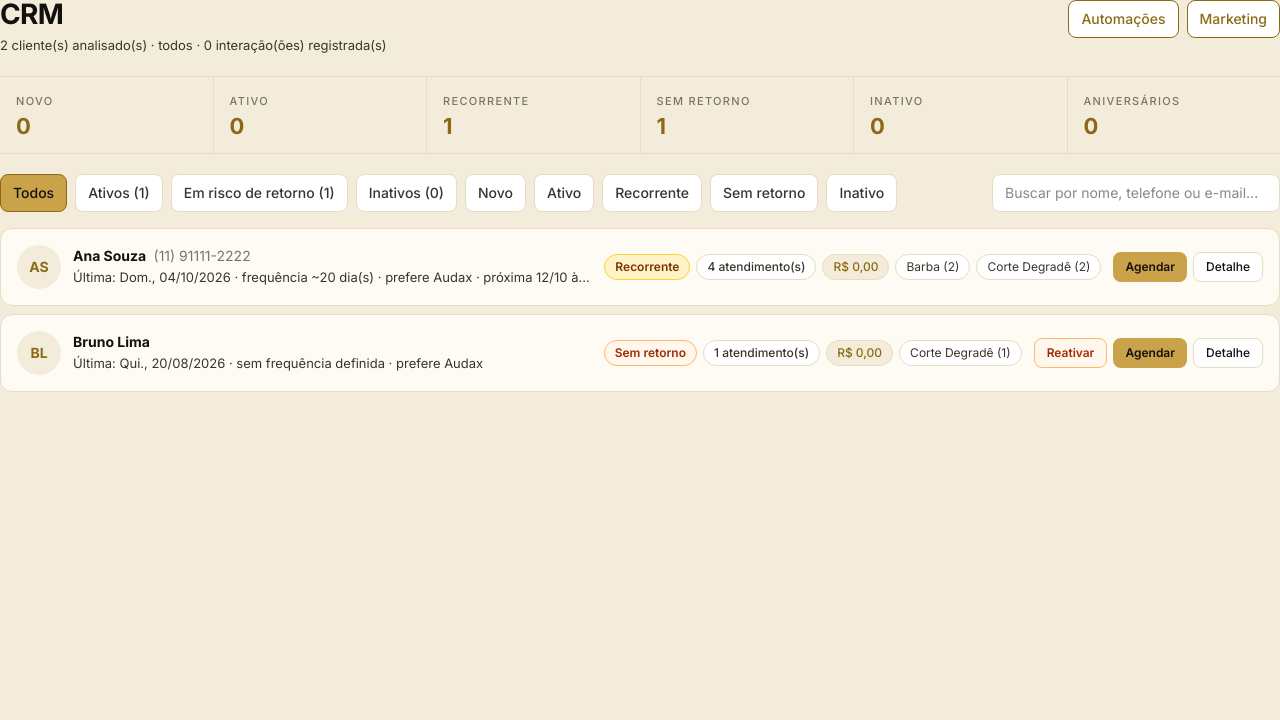
it: CRM — detalhe, interações e ações rápidas › valida e registra nota de interação preservando o histórico
The image size is (1280, 720).
Step 1. Click the button "Detalhe" in the row of "AS" → (1228, 267), box [1193,252,1263,282]
(page scrolled)
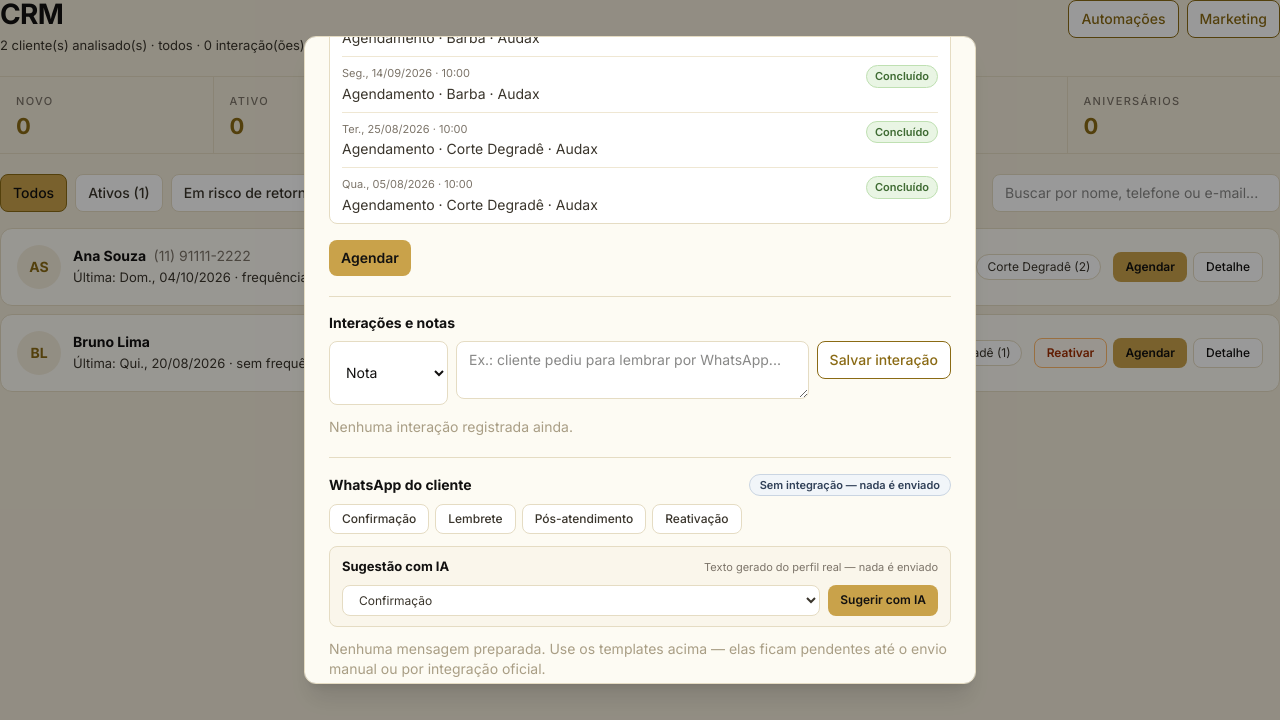
Step 2. Click the button "Salvar interação" → (884, 360), box [817,340,951,378]
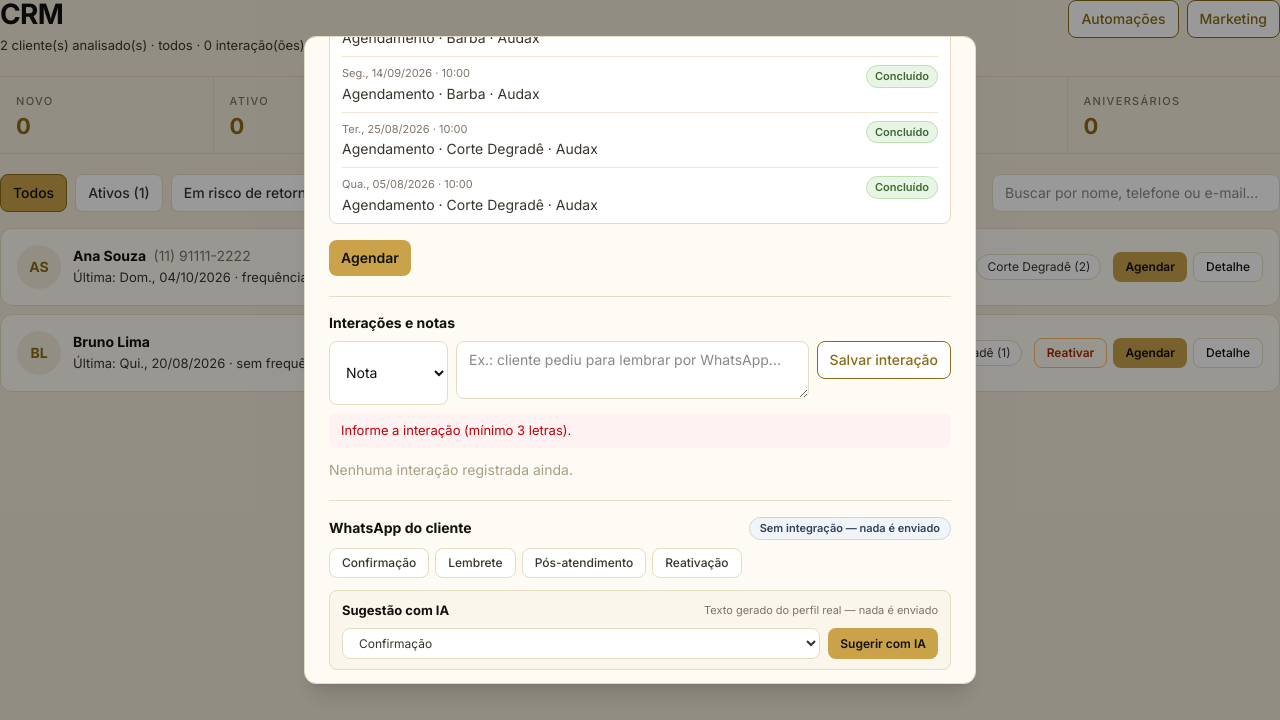
Expected: the text "Informe a interação (mínimo 3 letras)." is shown, [329,412,951,448]
Step 3. Type "Cliente quer lembrete no WhatsApp." into the text box named "Nova interação" → (632, 370), box [456,340,809,398]
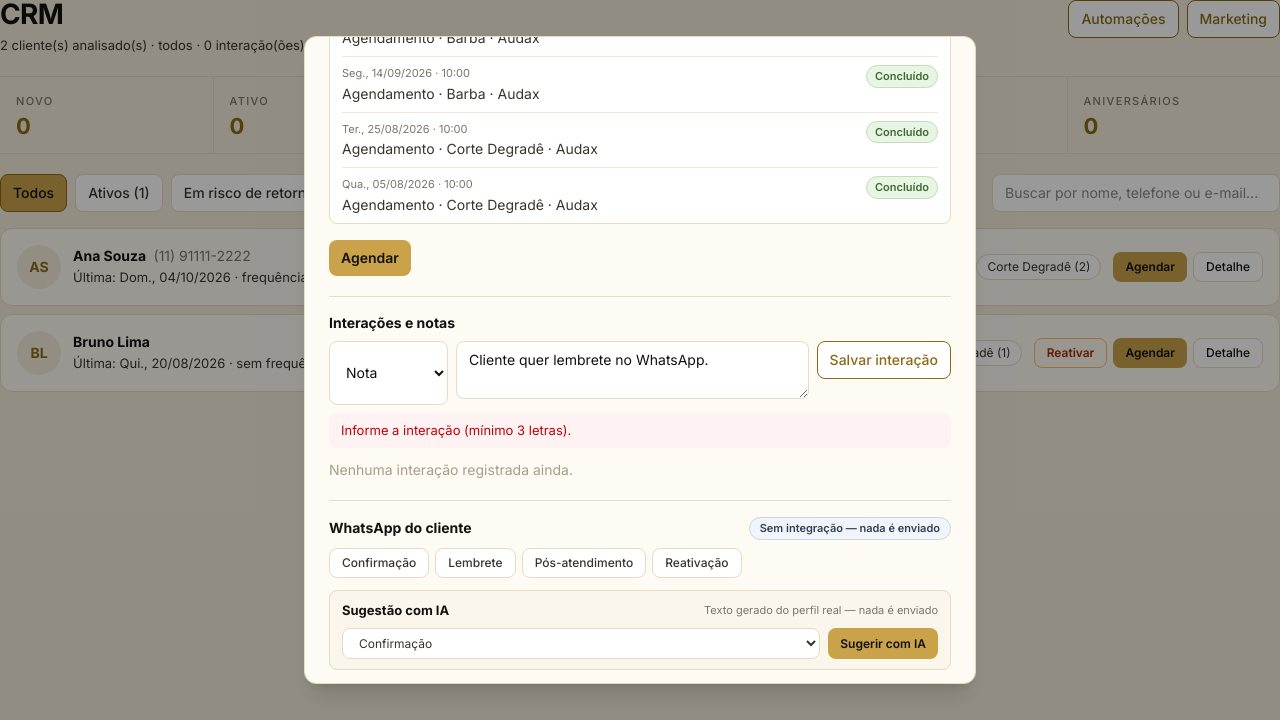
Step 4. Click the button "Salvar interação" → (884, 360), box [817,340,951,378]
(page scrolled)
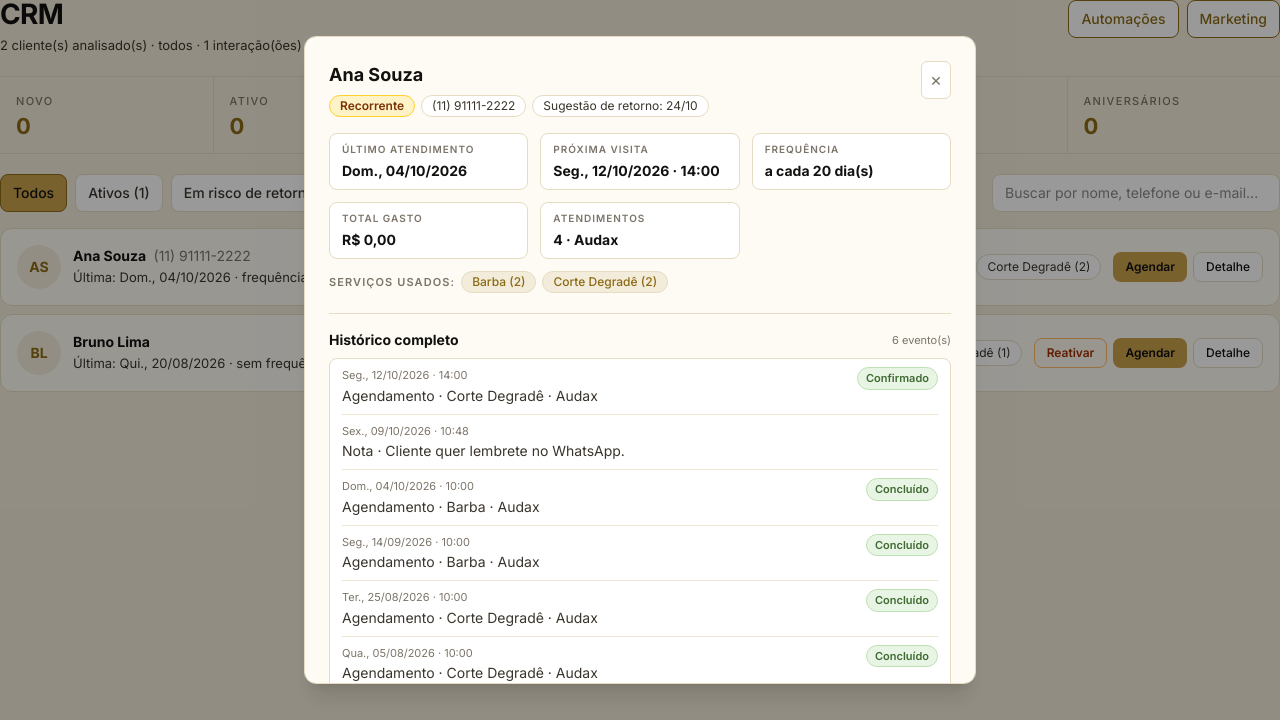
Note: reabrir o detalhe: nota continua lá (histórico não é apagado)
Step 5. Click the button named "Fechar" → (936, 80), box [921,61,951,99]
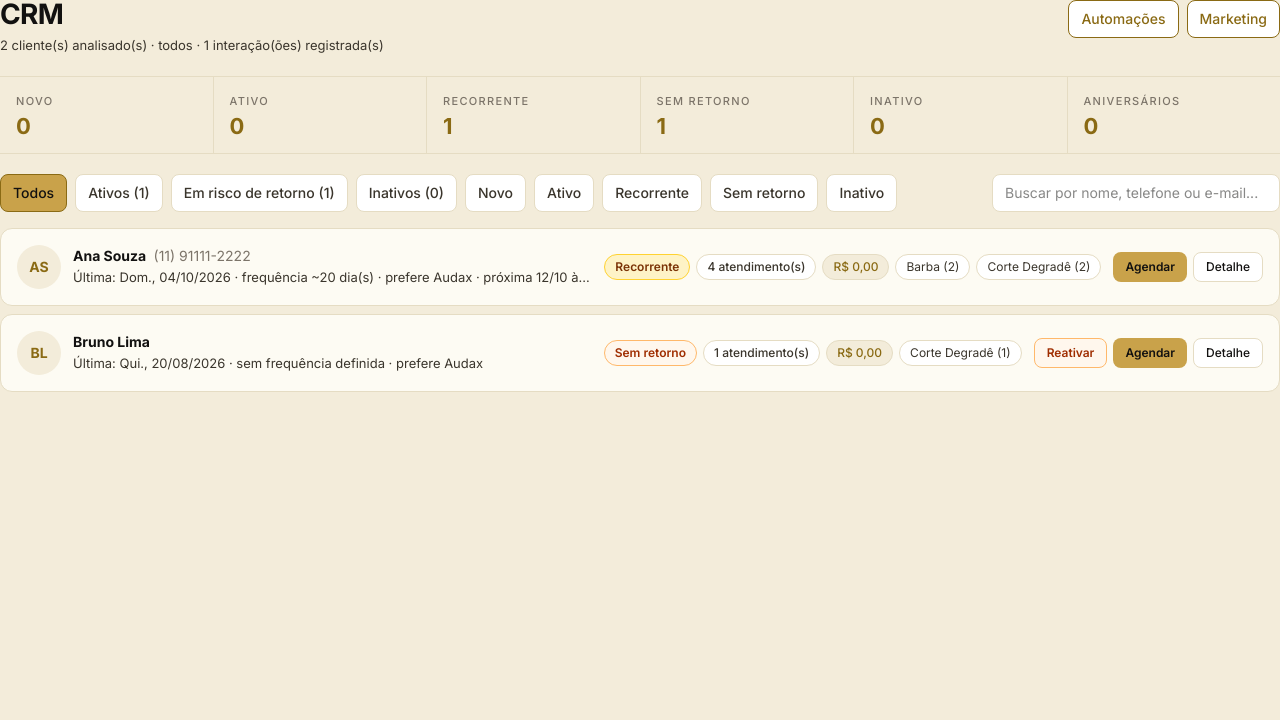
Step 6. Click the button "Detalhe" in the row of "AS" → (1228, 267), box [1193,252,1263,282]
(page scrolled)
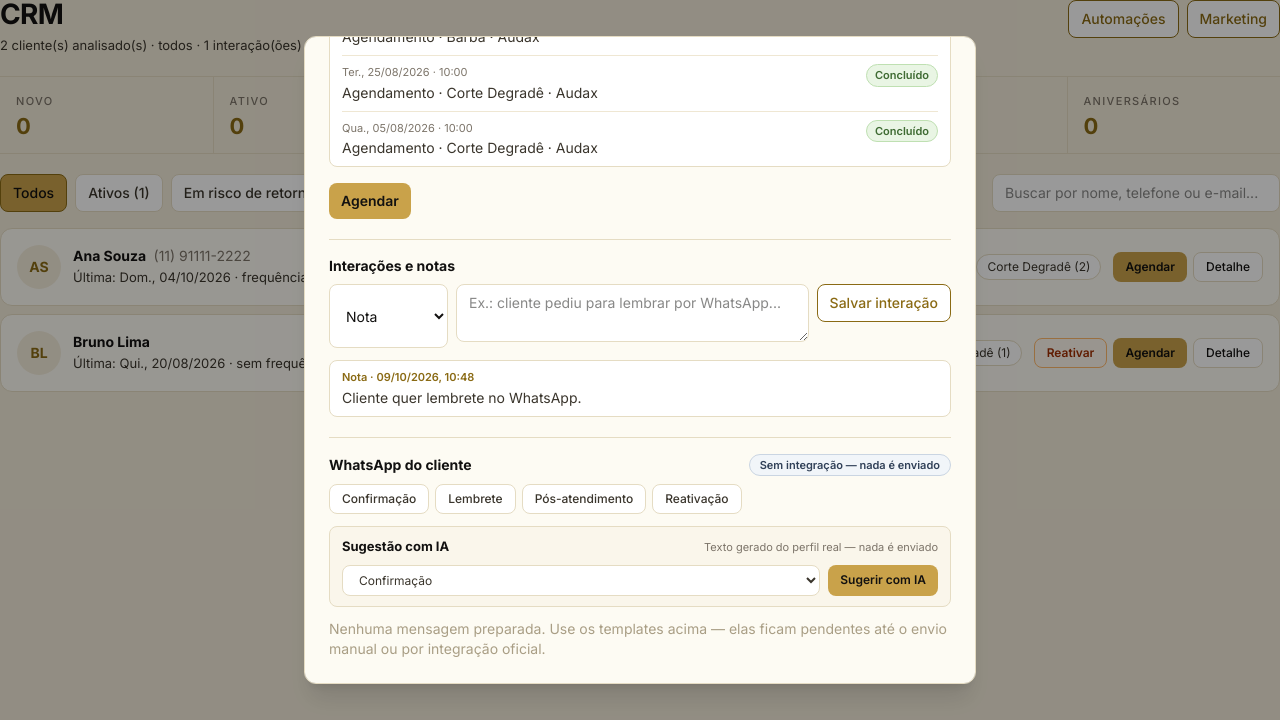
Expected: the text "Cliente quer lembrete no WhatsApp." is shown, [342,388,582,406]
